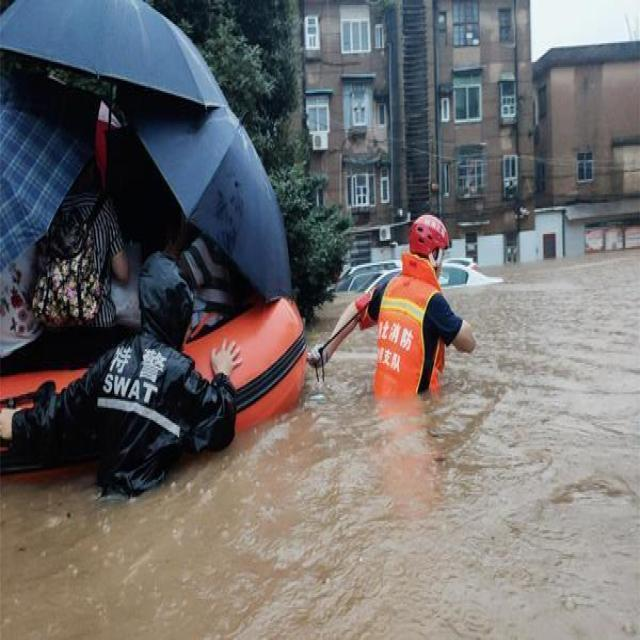rescuer: (349, 214, 489, 416)
